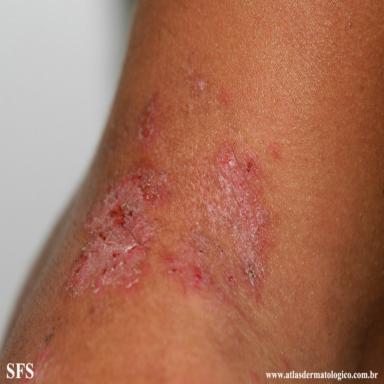Hailey-Hailey-Disease: (165, 145, 269, 295), (65, 167, 169, 295), (139, 94, 157, 139)
